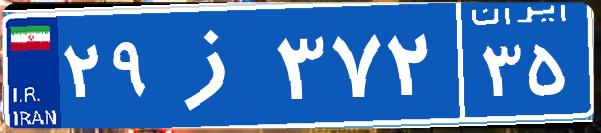2: (385, 28, 445, 110), (57, 26, 110, 107)
3: (273, 28, 330, 110), (475, 38, 525, 113)
5: (525, 38, 570, 115)
7: (330, 28, 385, 110)
9: (110, 28, 158, 105)
ز: (158, 15, 273, 115)
